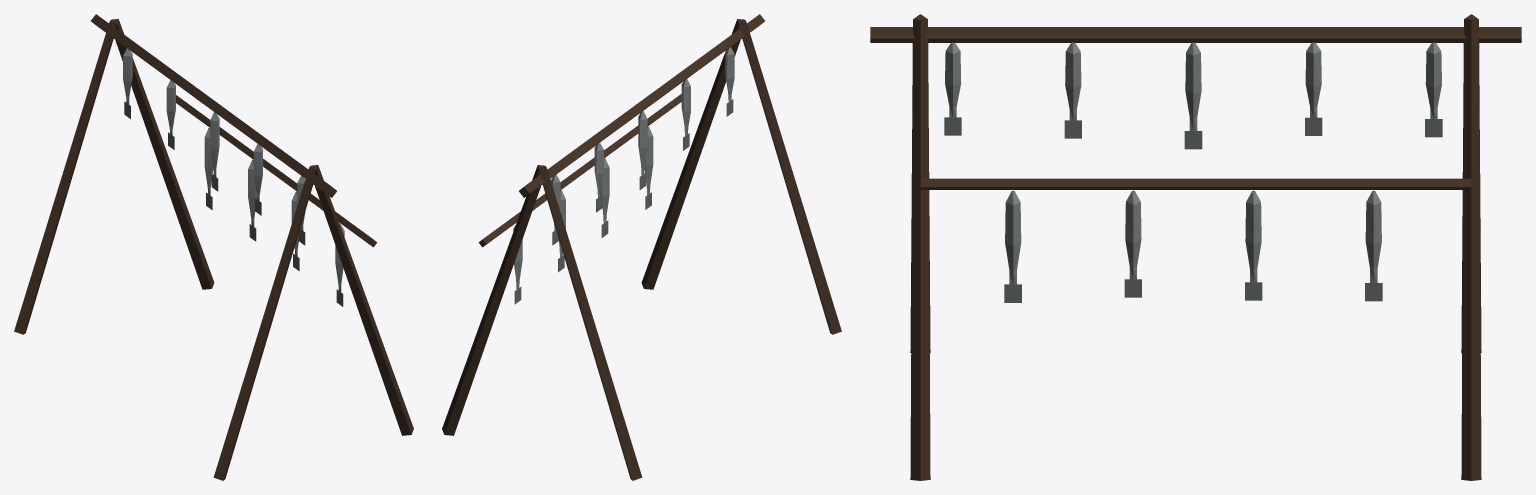
The model's file is b9_fisk.glb.
The picture shows the model from 3 angles, left to right: view 1: azimuth 30°, elevation 25°; view 2: azimuth 150°, elevation 25°; view 3: azimuth 270°, elevation 25°; orthographic projection. The views are drawn at different scales.
Parts seen in each view (by area): view 1: B9_fisketoerrestativ; view 2: B9_fisketoerrestativ; view 3: B9_fisketoerrestativ.
Boxes of the visible parts, bbox=[...] form: B9_fisketoerrestativ: bbox=[14, 14, 413, 480]; B9_fisketoerrestativ: bbox=[442, 14, 841, 480]; B9_fisketoerrestativ: bbox=[870, 14, 1521, 480].
Size of the model in its own units: 1.28 by 1.77 by 2.6.
